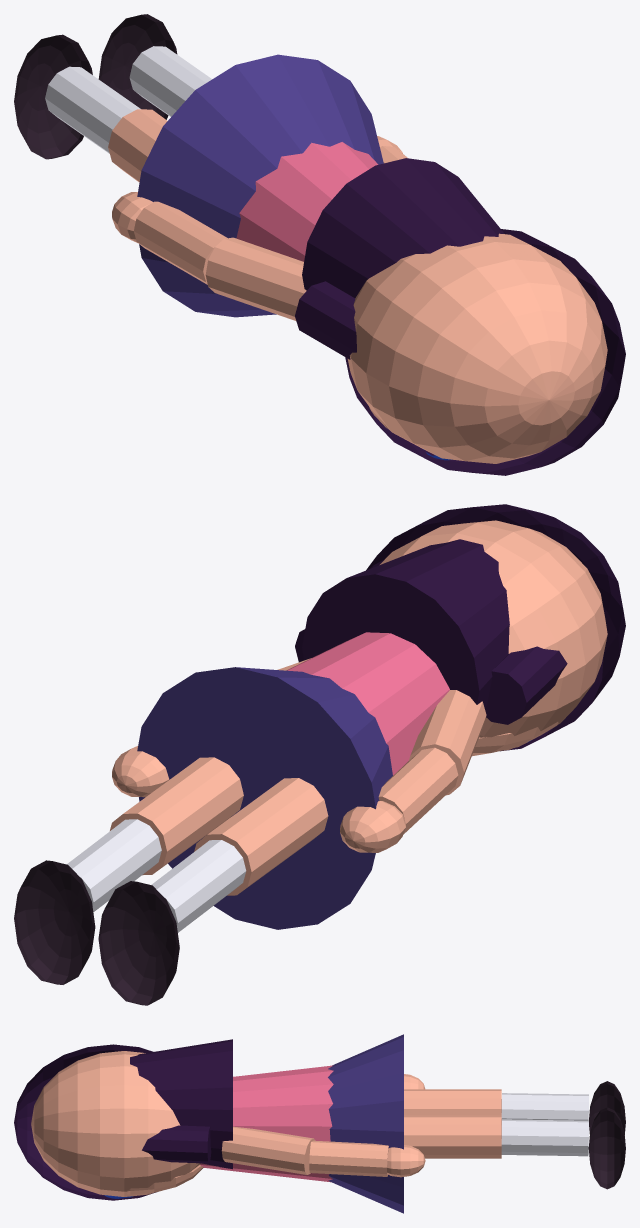
The model's file is anime_girl.obj.
The picture shows the model from 3 angles, top to bottom: view 1: azimuth 30°, elevation 25°; view 2: azimuth 150°, elevation 25°; view 3: azimuth 270°, elevation 25°; orthographic projection. The views are drawn at different scales.
Visible parts, largest first — view 1: Head, Skirt, BackHair, Torso, HairCap, UpperArm_-1, Shoe_-1, LowerLeg_-1, ForeArm_-1, Shoe_1, LowerLeg_1, HairLock_-1 (+2 smaller); view 2: Skirt, BackHair, Head, Torso, Shoe_-1, Shoe_1, HairCap, Thigh_1, Thigh_-1, LowerLeg_-1, LowerLeg_1, HairLock_-1 (+5 smaller); view 3: Head, Skirt, BackHair, Torso, Thigh_1, HairCap, UpperArm_1, LowerLeg_1, Thigh_-1, ForeArm_1, Shoe_1, LowerLeg_-1 (+5 smaller).
Boxes of the visible parts, x1,y1,x2,y2 form: Head: (347, 233, 607, 463); Skirt: (137, 54, 383, 317); BackHair: (302, 158, 504, 297); Torso: (236, 142, 378, 261); HairCap: (345, 228, 625, 475); UpperArm_-1: (205, 237, 306, 320); Shoe_-1: (14, 34, 92, 159); LowerLeg_-1: (45, 66, 140, 153); ForeArm_-1: (134, 201, 227, 284); Shoe_1: (98, 14, 177, 119); LowerLeg_1: (129, 46, 211, 116); HairLock_-1: (295, 281, 356, 359); Skirt: (137, 667, 392, 929); BackHair: (302, 539, 509, 708); Head: (380, 520, 607, 750); Torso: (286, 632, 449, 775); Shoe_-1: (98, 881, 179, 1005); Shoe_1: (14, 860, 95, 984); HairCap: (366, 504, 625, 751); Thigh_1: (110, 757, 243, 875); Thigh_-1: (194, 778, 328, 895); LowerLeg_-1: (151, 840, 246, 932); LowerLeg_1: (67, 819, 161, 911); HairLock_-1: (485, 646, 567, 724); Head: (31, 1051, 200, 1196); Skirt: (328, 1034, 403, 1213); BackHair: (130, 1039, 232, 1169); Torso: (200, 1065, 333, 1182); Thigh_1: (404, 1115, 501, 1158); HairCap: (14, 1044, 156, 1200); UpperArm_1: (221, 1126, 314, 1174); LowerLeg_1: (501, 1119, 588, 1156); Thigh_-1: (404, 1089, 501, 1115); ForeArm_1: (309, 1140, 388, 1176); Shoe_1: (588, 1107, 625, 1189); LowerLeg_-1: (501, 1093, 588, 1124).
Bounding box in the file's own units: 1.34 × 1.14 × 3.94.
